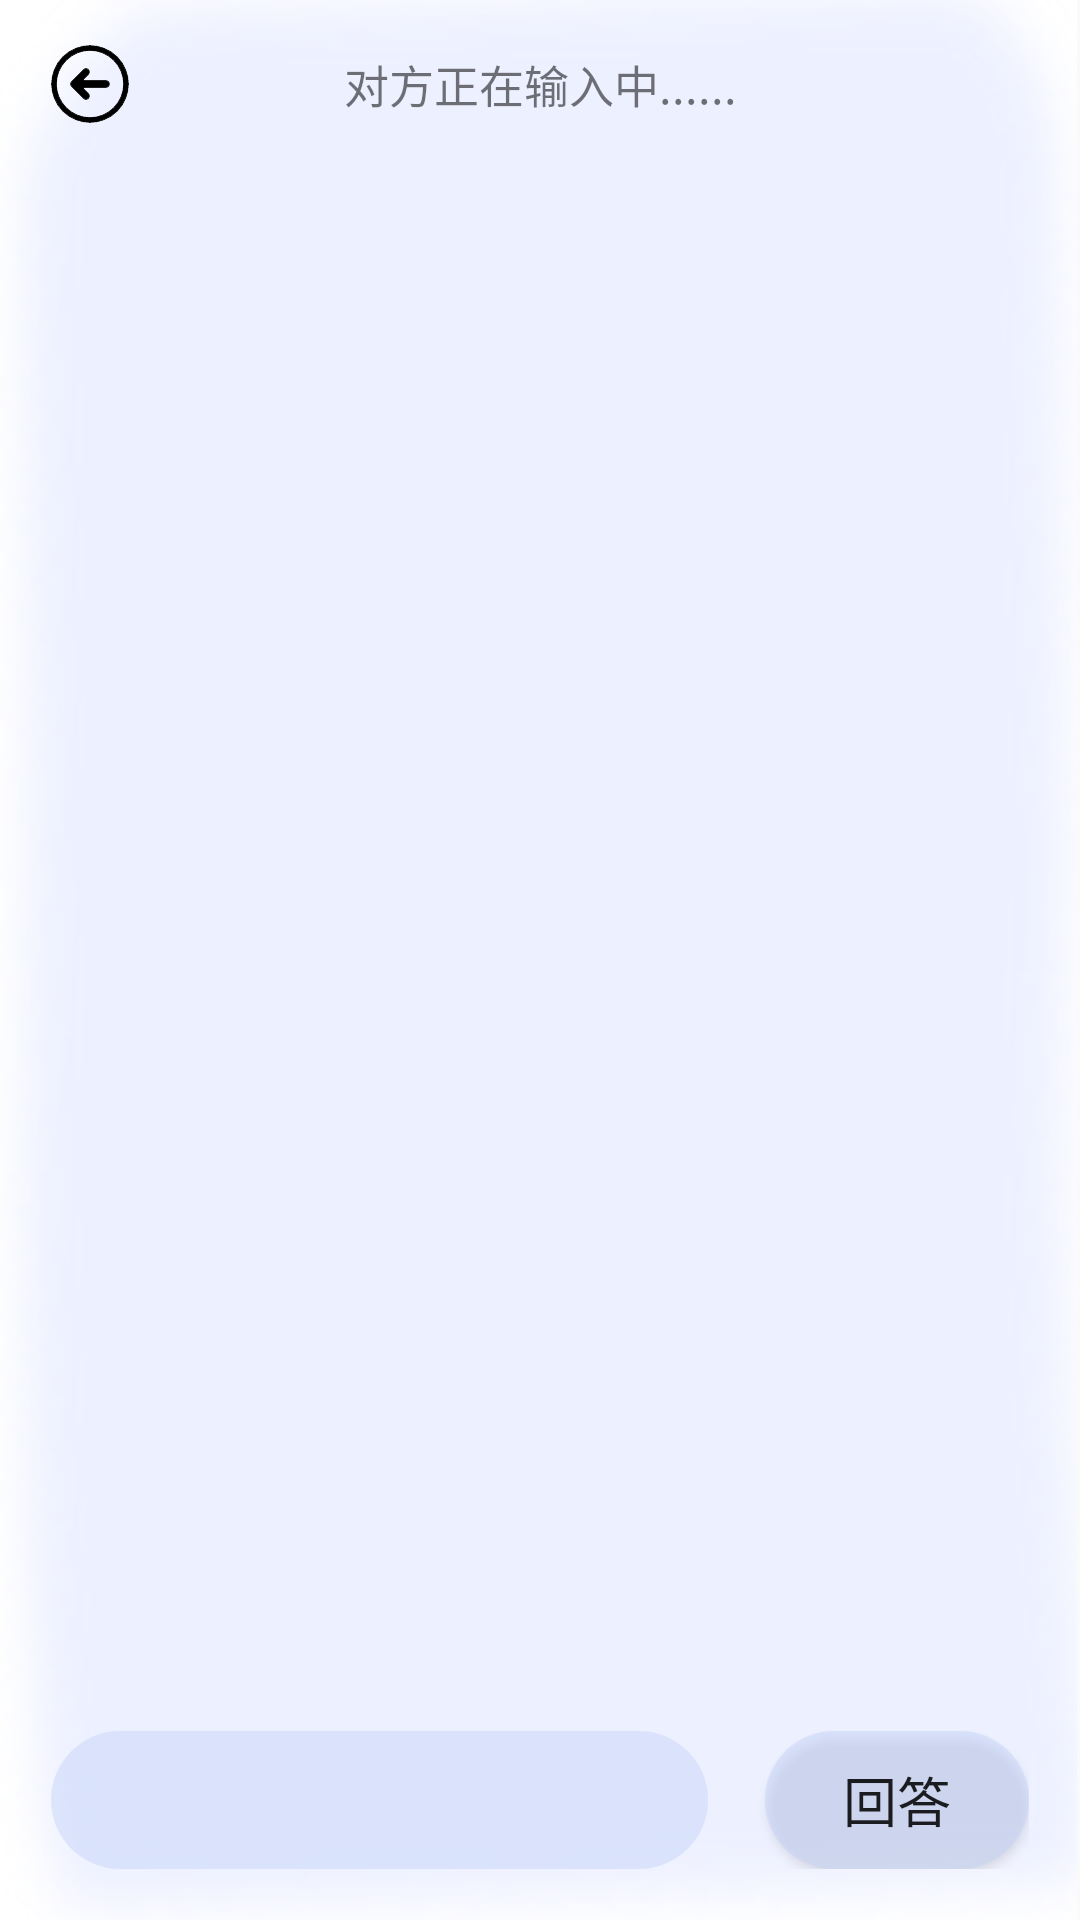

Icon bounding boxes for this 1080w x 1920h phone screenshot, format (x1, y1, x2, y2):
back: (51, 45, 129, 123)
